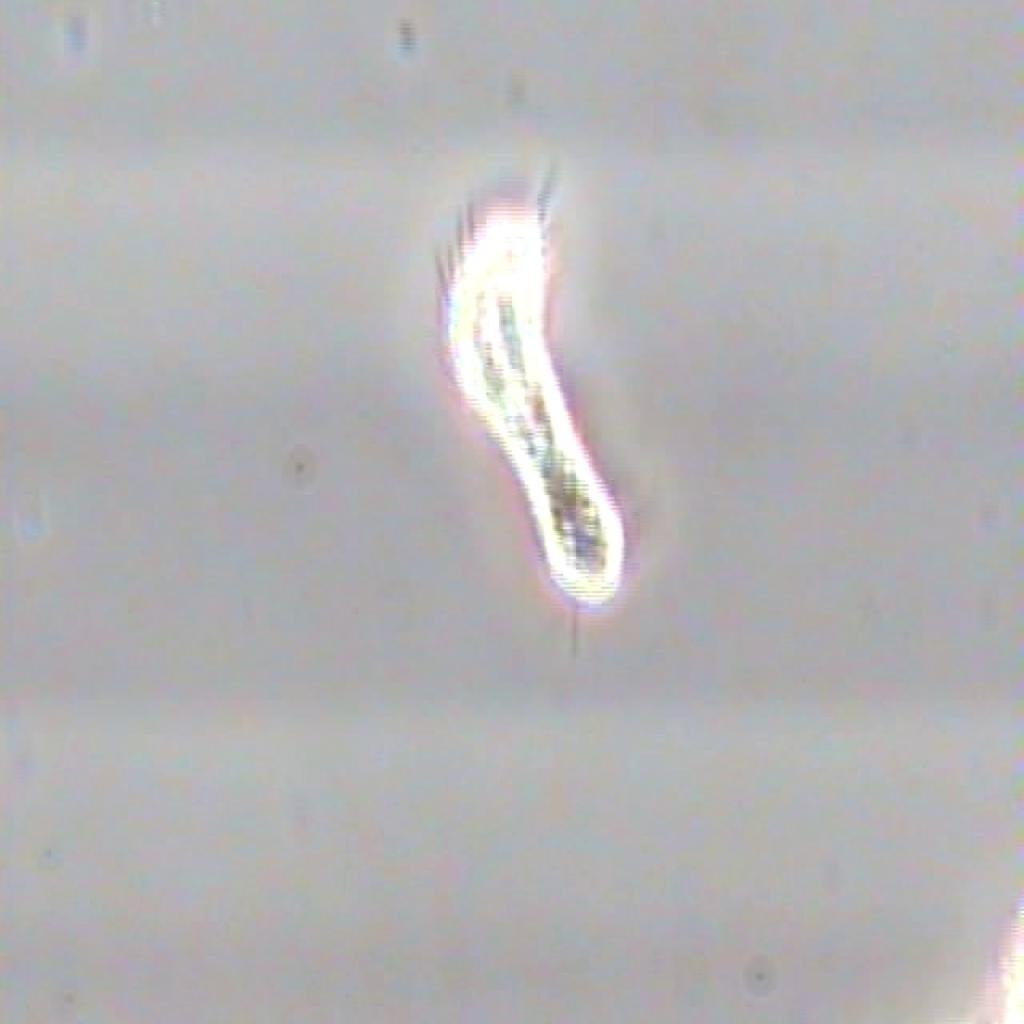Chaetonotus: (429, 168, 656, 662)
